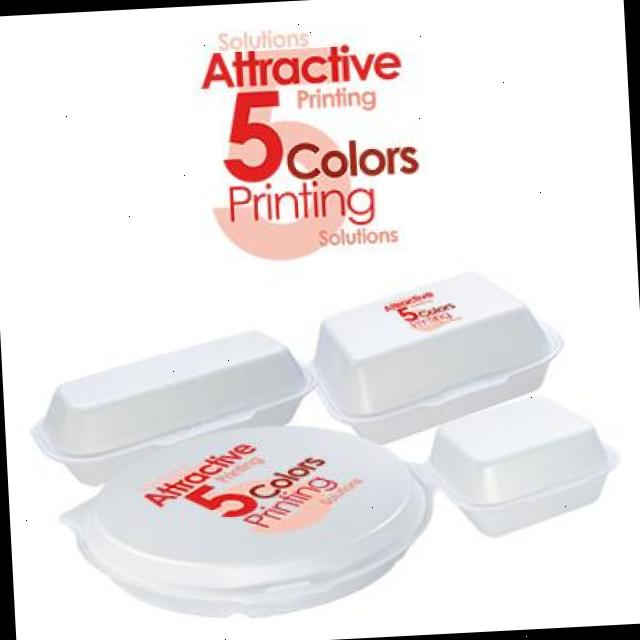styrofoam: (53, 416, 440, 626), (25, 324, 320, 489), (304, 263, 566, 447), (423, 386, 620, 540)
